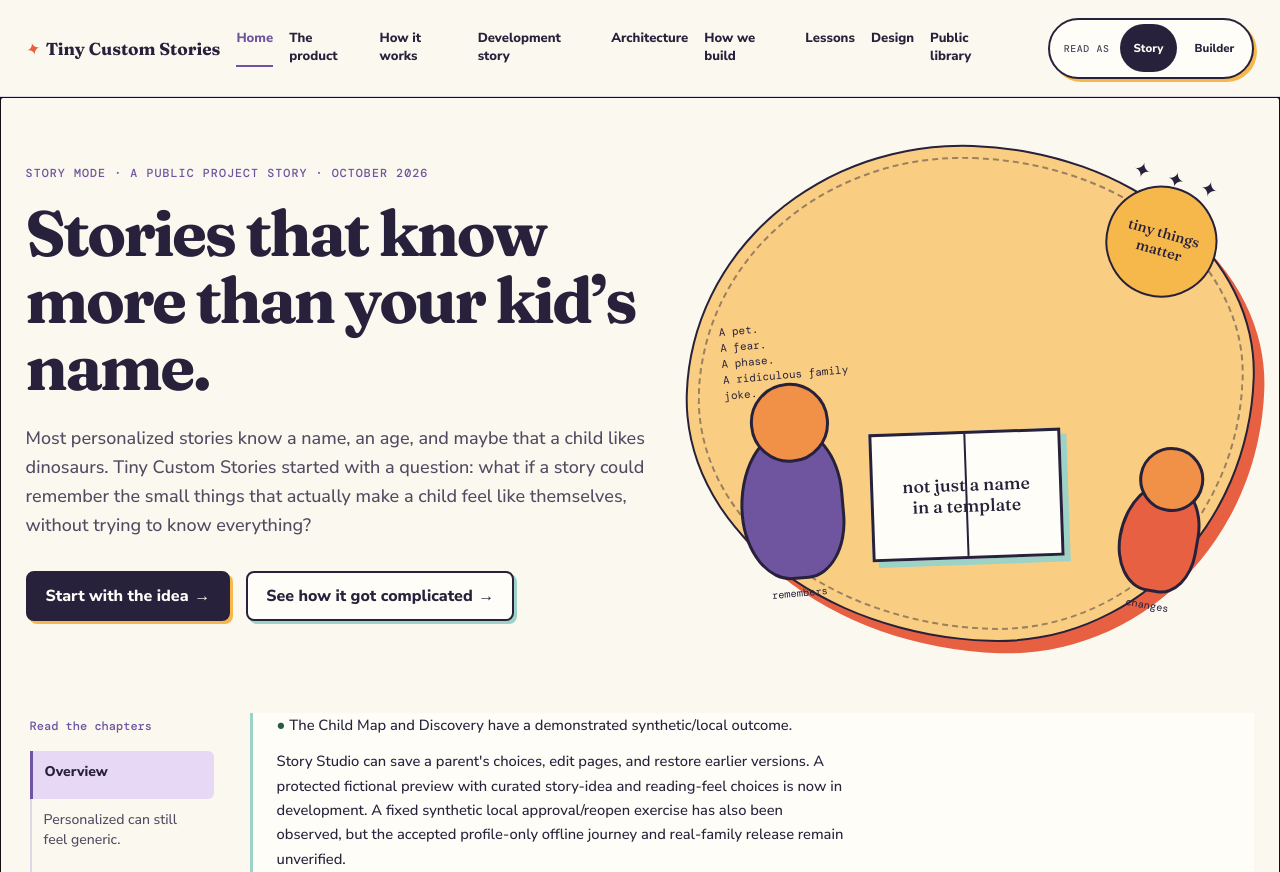
project story site › opens history destinations at the top after a hash navigation
Click the link "The product" at coordinates (313, 47), box [289, 29, 338, 65]
(page scrolled)
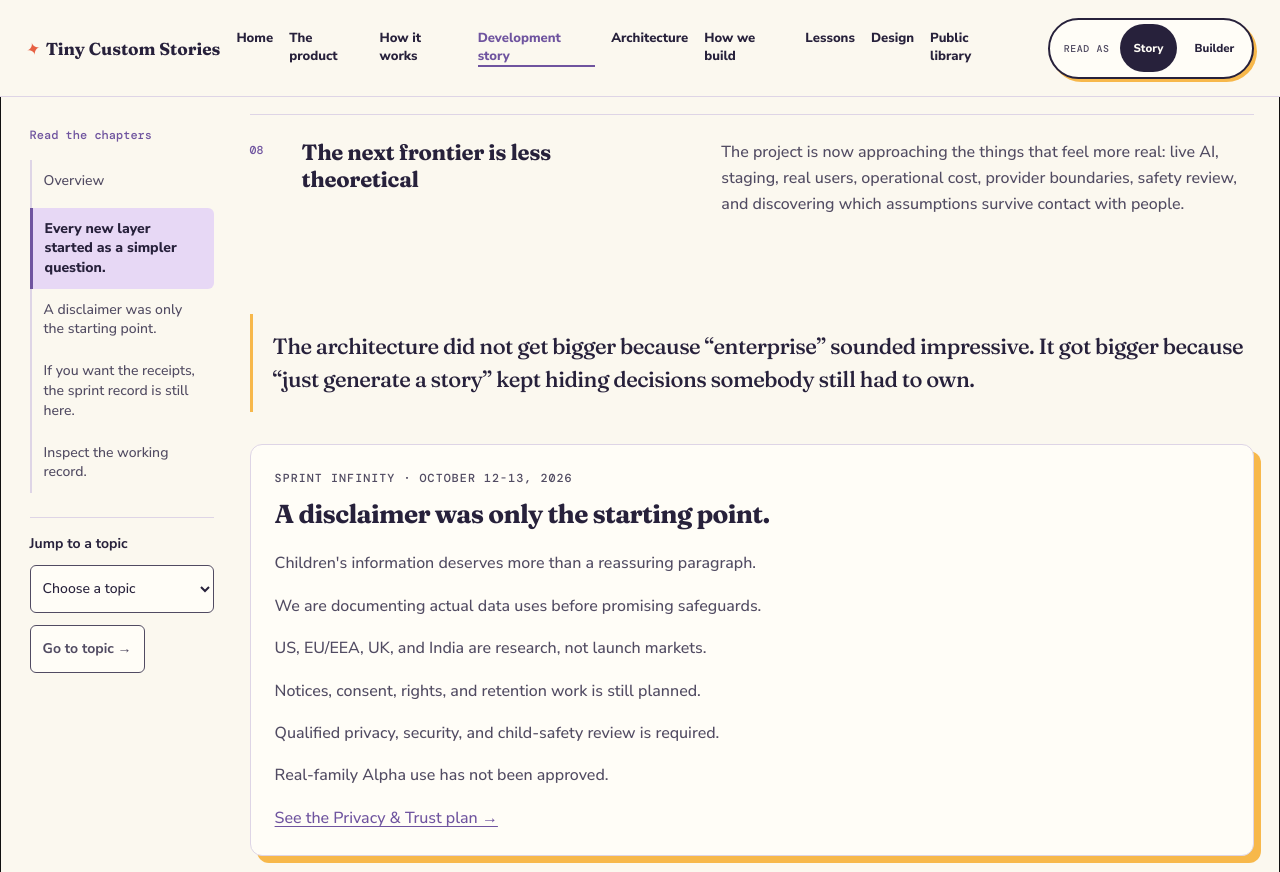
Now the heading "A disclaimer was only the starting point." is shown, box [275, 500, 822, 530]
